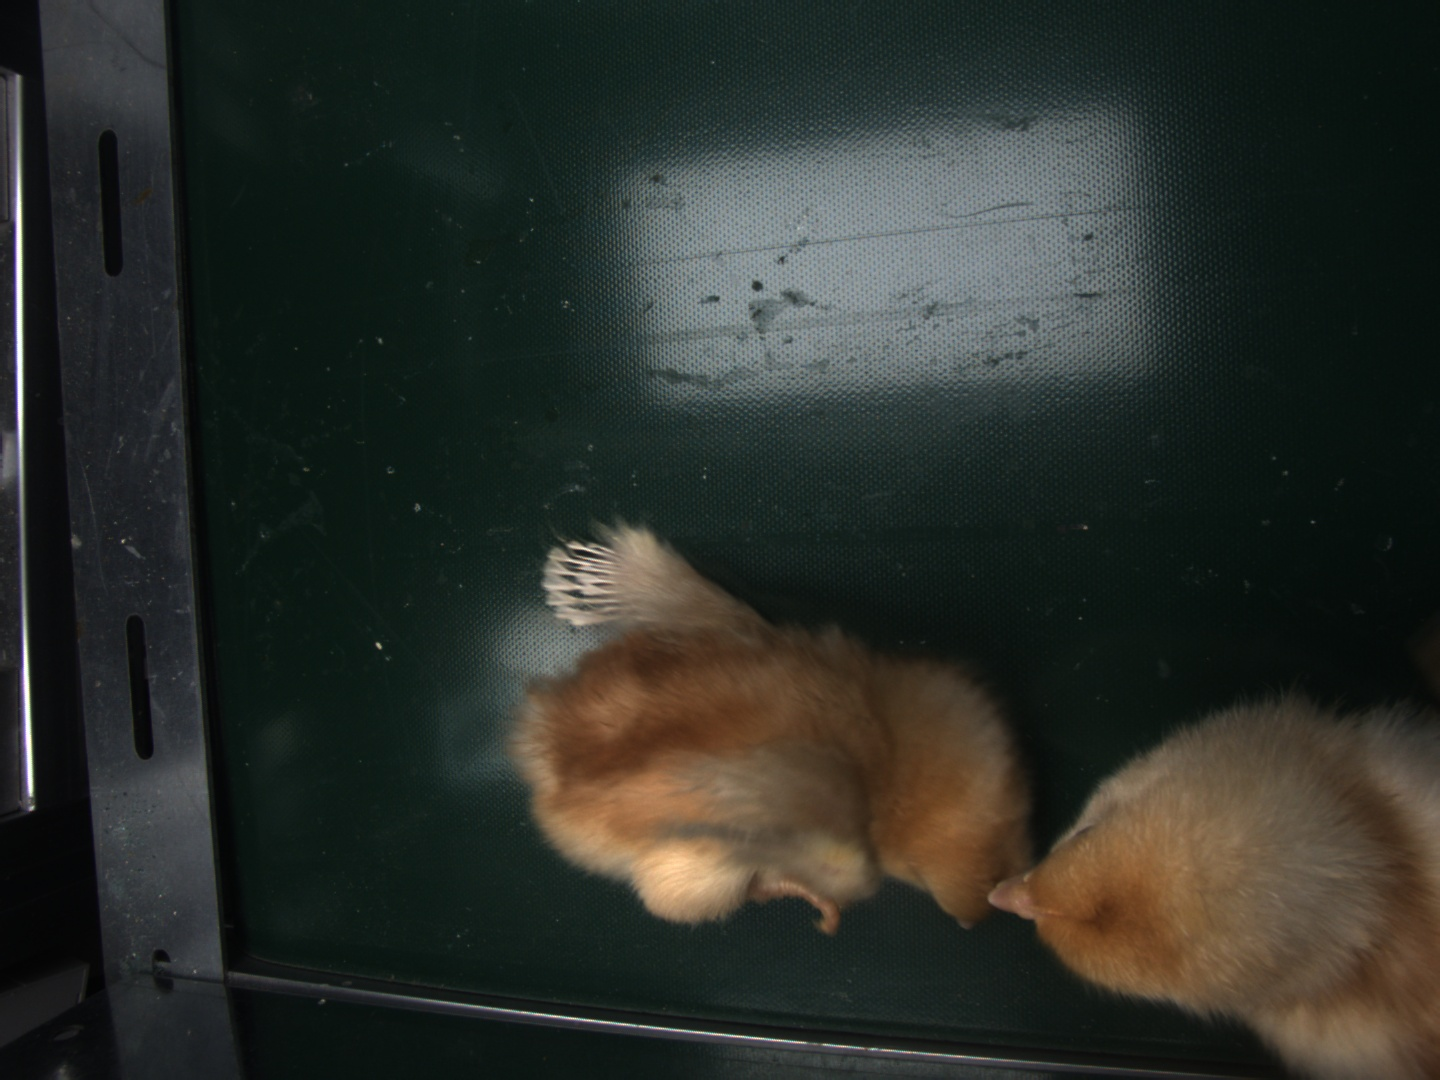female: (544, 539, 626, 623)
